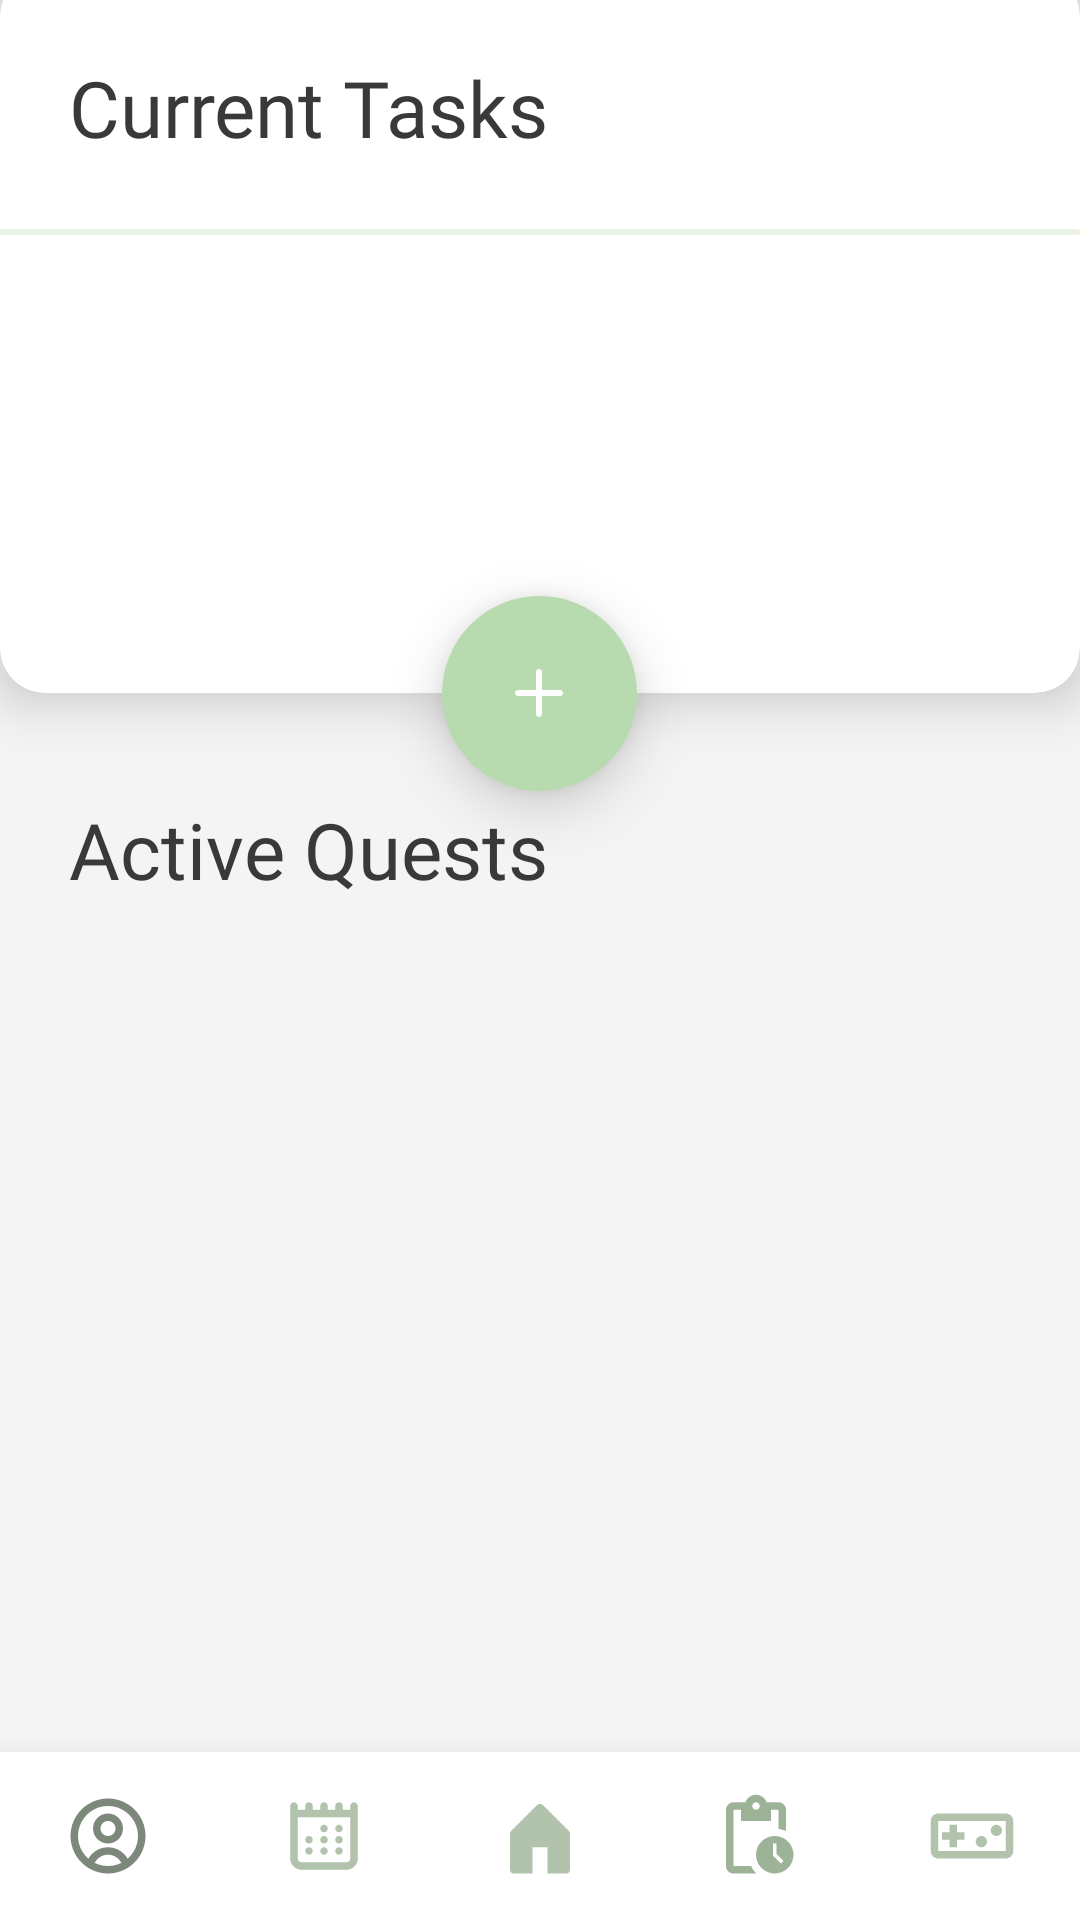

Screen size 1080*1920. Icon name, then its box in pixels as Rect(x1, y1, x2, y2):
plus: Rect(442, 596, 637, 791)
